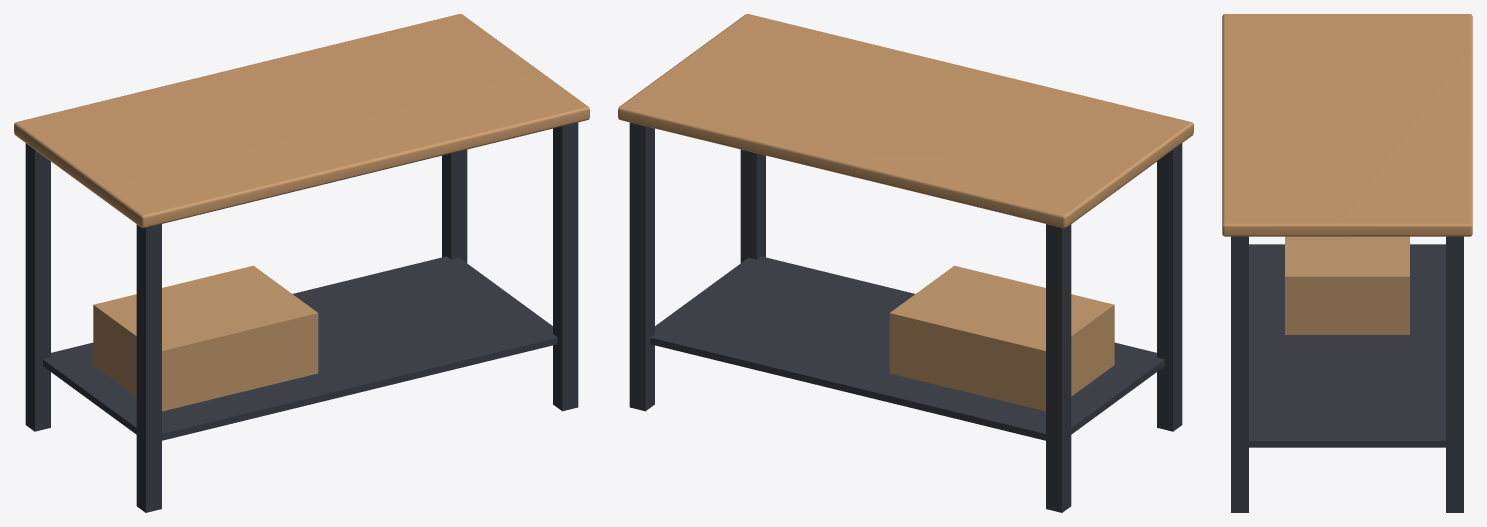
File: Worktable.fbx
The picture shows the model from 3 angles, left to right: view 1: azimuth 30°, elevation 25°; view 2: azimuth 150°, elevation 25°; view 3: azimuth 270°, elevation 25°; orthographic projection. The views are drawn at different scales.
Parts seen in each view (by area): view 1: WorktableBody; view 2: WorktableBody; view 3: WorktableBody.
Boxes of the visible parts, x1,y1,x2,y2 form: WorktableBody: (14, 14, 589, 512); WorktableBody: (618, 14, 1193, 512); WorktableBody: (1222, 14, 1472, 512).
Size of the model in its own units: 1.4 by 0.9 by 0.7.
